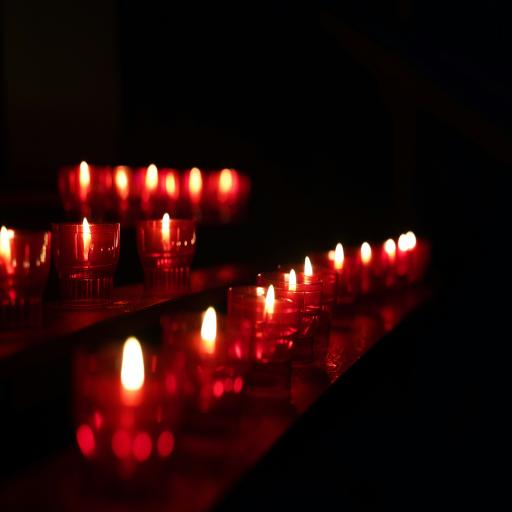candlelight: (74, 343, 177, 495), (51, 222, 119, 308), (1, 228, 52, 330), (136, 216, 196, 297), (117, 336, 147, 418), (260, 282, 275, 352), (396, 232, 416, 282), (331, 243, 346, 295), (200, 304, 218, 344), (383, 238, 397, 288), (0, 225, 13, 271), (82, 214, 92, 260), (160, 211, 170, 255), (288, 268, 297, 292), (304, 256, 313, 277)
